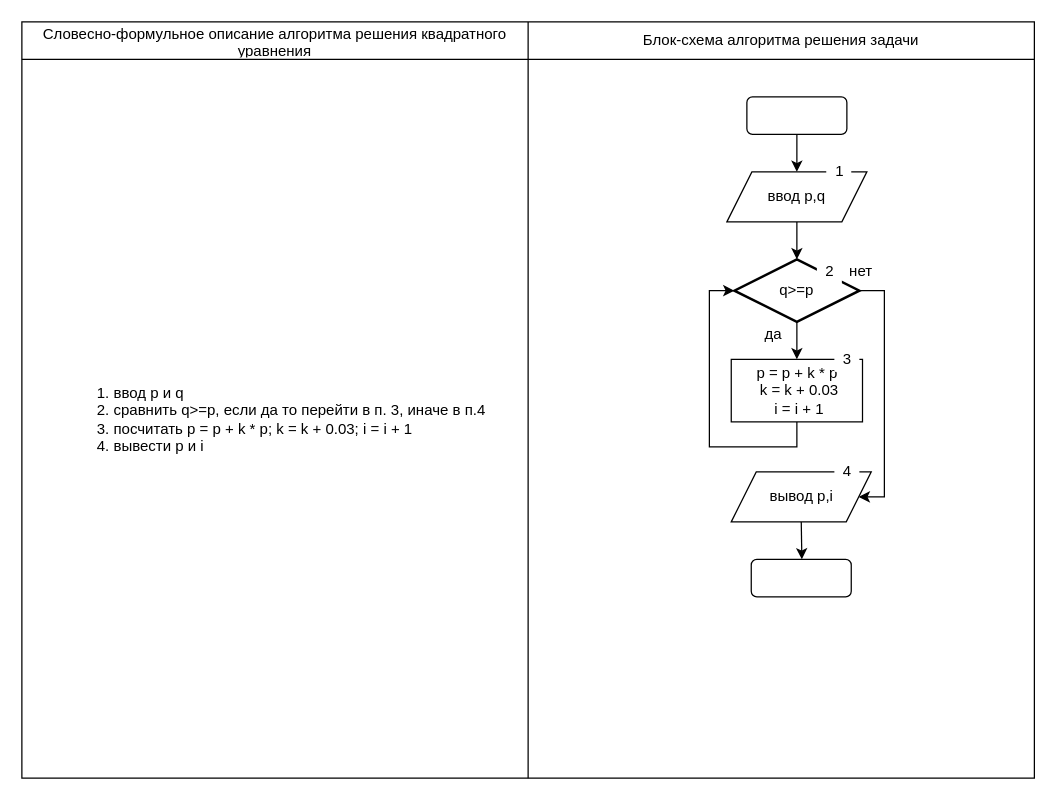
Image size: 1056x800. Some labels were removed from this diagram. Here are the shapes that lost their labels. From the top down, the centre of each, then its label:
At [796,115]: "начало".
At [800,577]: "конец".
